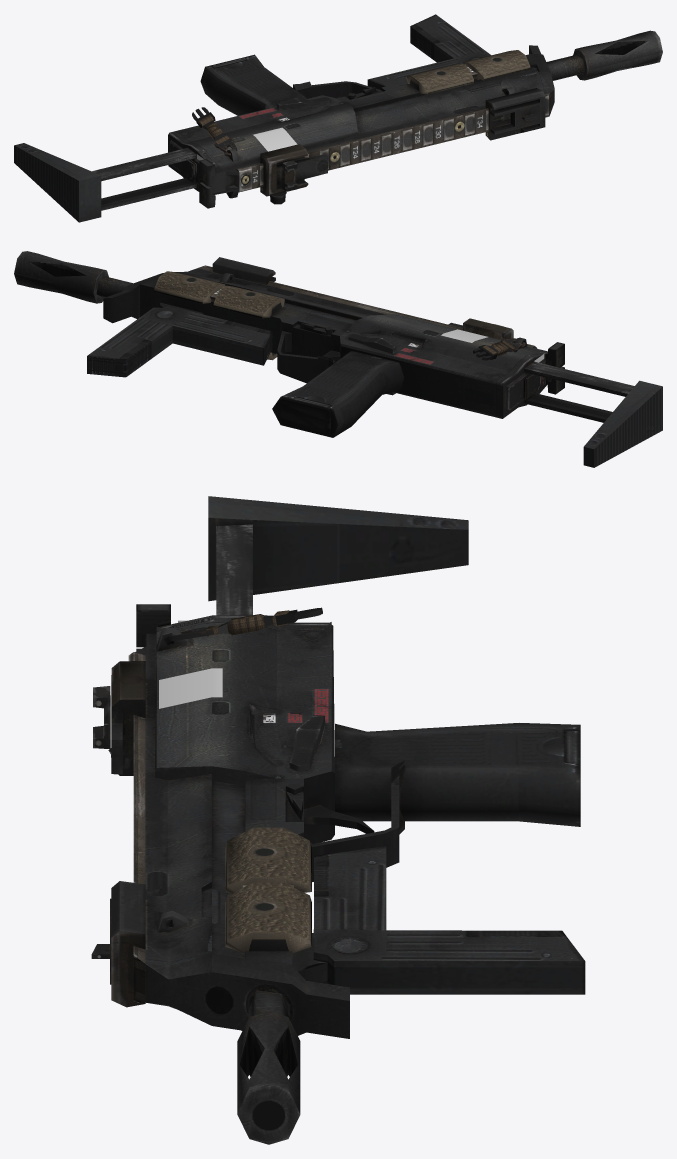
The model's file is t6_wpn_smg_mp7_world_LOD0.obj.
3 views of the same model, one above another, from view 1: azimuth 30°, elevation 25°; view 2: azimuth 150°, elevation 25°; view 3: azimuth 270°, elevation 25° (orthographic). The views are drawn at different scales.
Visible parts, largest first — view 1: mtl_t6_wpn_smg_mp7_camo3, mtl_t6_wpn_smg_mp7_camo1, mtl_t6_wpn_smg_mp7_camo2, mtl_t6_wpn_smg_mp7_camo4, mtl_player_icon_world; view 2: mtl_t6_wpn_smg_mp7_camo2, mtl_t6_wpn_smg_mp7_camo3, mtl_t6_wpn_smg_mp7_camo1, mtl_t6_wpn_smg_mp7_camo4, mtl_player_icon_world; view 3: mtl_t6_wpn_smg_mp7_camo2, mtl_t6_wpn_smg_mp7_camo3, mtl_t6_wpn_smg_mp7_camo1, mtl_t6_wpn_smg_mp7_camo4, mtl_player_icon_world.
Part boxes in pixels (x1,y1,x2,y2): mtl_t6_wpn_smg_mp7_camo3: (14,30,662,222); mtl_t6_wpn_smg_mp7_camo1: (92,26,584,210); mtl_t6_wpn_smg_mp7_camo2: (14,45,554,222); mtl_t6_wpn_smg_mp7_camo4: (199,14,542,196); mtl_player_icon_world: (253,127,297,151); mtl_t6_wpn_smg_mp7_camo2: (103,268,662,467); mtl_t6_wpn_smg_mp7_camo3: (14,251,662,467); mtl_t6_wpn_smg_mp7_camo1: (96,264,634,422); mtl_t6_wpn_smg_mp7_camo4: (87,257,564,395); mtl_player_icon_world: (441,329,487,342); mtl_t6_wpn_smg_mp7_camo2: (145,518,580,1038); mtl_t6_wpn_smg_mp7_camo3: (156,496,580,1144); mtl_t6_wpn_smg_mp7_camo1: (91,524,585,1018); mtl_t6_wpn_smg_mp7_camo4: (111,604,584,960); mtl_player_icon_world: (159,668,222,708).
Size of the model in its own units: 58.56 by 6.24 by 21.17.
